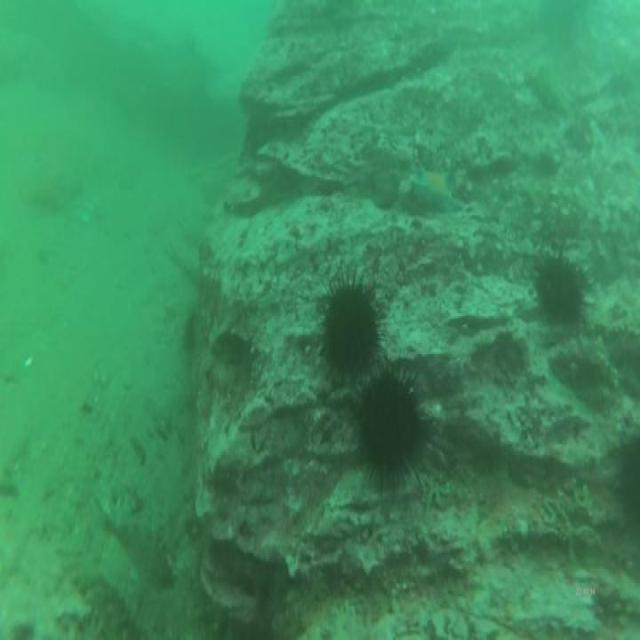echinus: (103, 496, 174, 585), (76, 567, 144, 640), (180, 310, 198, 358)
holothurian: (355, 360, 429, 493), (315, 267, 385, 390), (534, 242, 590, 335), (617, 427, 640, 526)
starfish: (403, 156, 463, 222)
